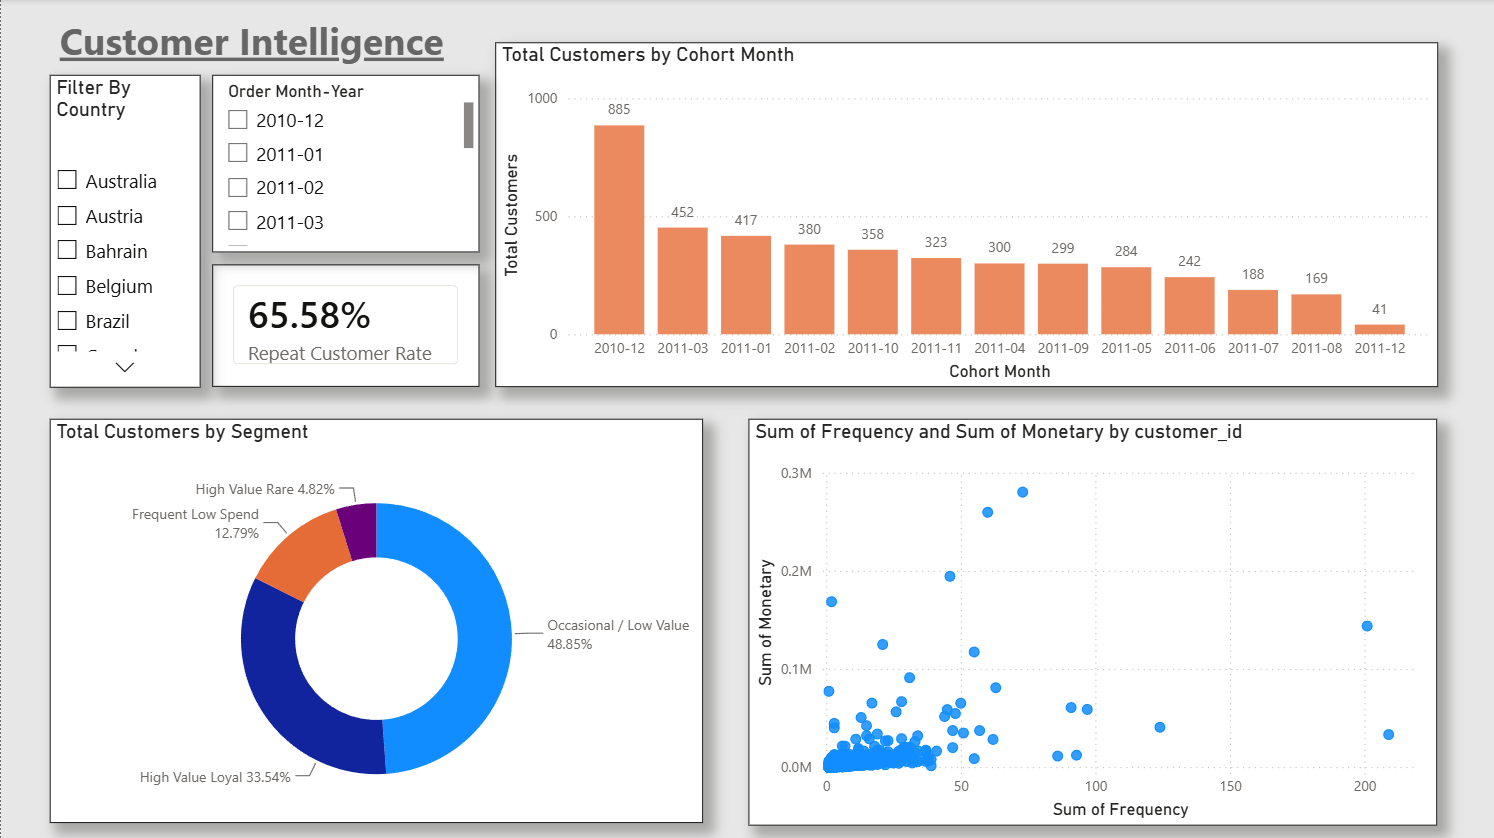

This screenshot's page, from the dashboard's own definition file:
{"tool":"powerbi","page":{"name":"Customer Intelligence","canvas":[1280,720],"ordinal":1},"visuals":[{"type":"donutChart","fields":{"Category":["Customer_Segments.Segment"],"Y":["_Measures.Total Customers"]},"box":[41.5,360,560,346.7],"z":0},{"type":"scatterChart","fields":{"X":["Sum(Customer_Segments.Frequency)"],"Y":["Sum(Customer_Segments.Monetary)"],"Category":["Customer_Segments.customer_id"]},"box":[640,360,590,348.3],"z":1000},{"type":"columnChart","fields":{"Category":["Customer_Cohorts.Cohort Month"],"Y":["_Measures.Total Customers"]},"box":[423.1,36.9,807.7,295.4],"z":2000},{"type":"cardVisual","fields":{"Data":["_Measures.Repeat Customer Rate"]},"box":[181.5,227.7,229.2,104.6],"z":3000},{"type":"textbox","box":[41.7,8.3,346.2,56.2],"z":4000},{"type":"listSlicer","title":"Filter By Country","fields":{"Values":["customers.country"]},"box":[41.5,64.6,129.2,267.7],"z":5000},{"type":"slicer","fields":{"Values":["orders.Order Month-Year"]},"box":[181.5,64.6,229.2,152.3],"z":6000}]}

Visuals, with their boxes in screenshot pixels (x1, y1, x2, y2), scaled from the page's 1280x720 canvas onto the 1494x838 screenshot:
donutChart - Customer_Segments.Segment x _Measures.Total Customers: [x1=48, y1=419, x2=702, y2=823]
scatterChart - Sum(Customer_Segments.Frequency) x Sum(Customer_Segments.Monetary): [x1=747, y1=419, x2=1436, y2=824]
columnChart - Customer_Cohorts.Cohort Month x _Measures.Total Customers: [x1=494, y1=43, x2=1437, y2=387]
cardVisual - _Measures.Repeat Customer Rate: [x1=212, y1=265, x2=479, y2=387]
textbox: [x1=49, y1=10, x2=453, y2=75]
"Filter By Country" listSlicer: [x1=48, y1=75, x2=199, y2=387]
slicer - orders.Order Month-Year: [x1=212, y1=75, x2=479, y2=252]
